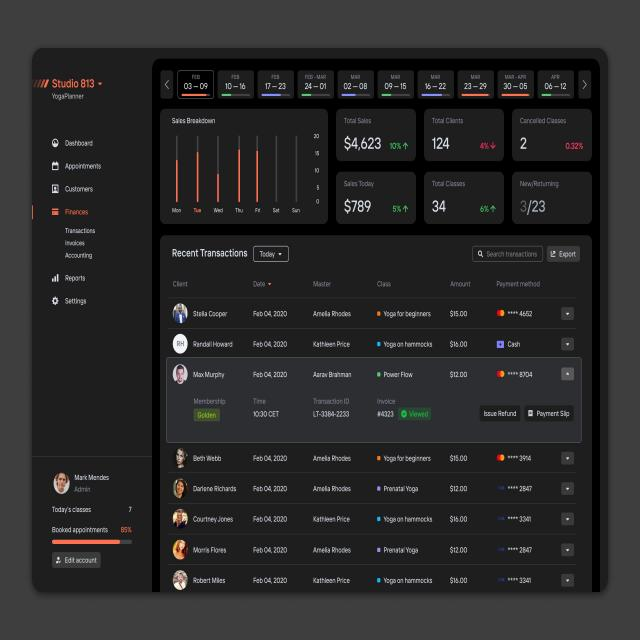button: (525, 405, 574, 422), (53, 553, 101, 568), (480, 405, 520, 421), (547, 246, 581, 264)
input: (472, 245, 544, 263)
select: (253, 245, 290, 262)
